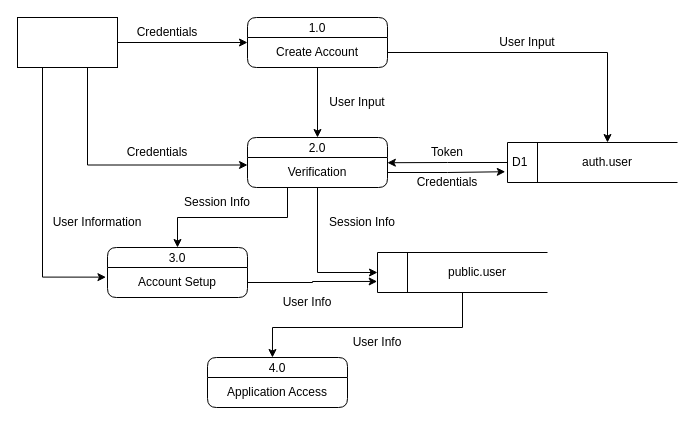
Image size: 695x425. Some labels were removed from this diagram. The shapes that lost their labels are listed below. From the top down, each one's box as (x1, y1, x2, y2) in pixels, then its label:
(16, 16, 118, 68): User
(376, 252, 548, 292): D2
